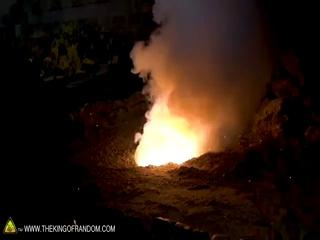Fire: (139, 102, 217, 174)
